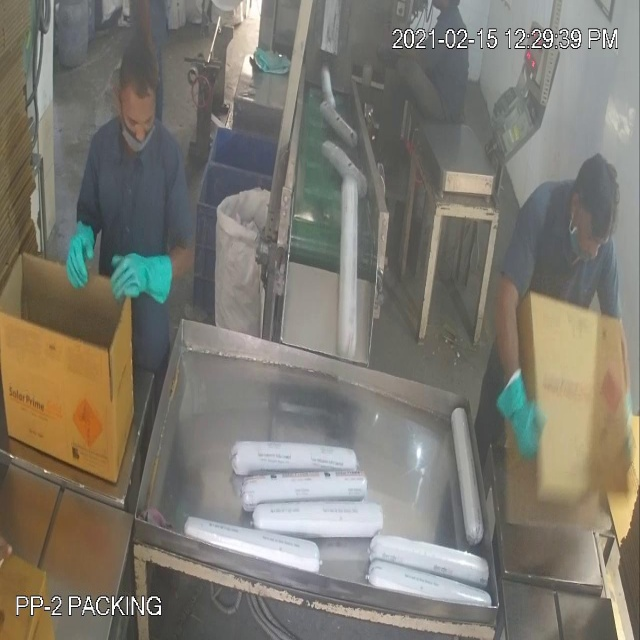Guantes: (105, 237, 180, 318), (485, 364, 548, 458), (58, 211, 102, 306)
